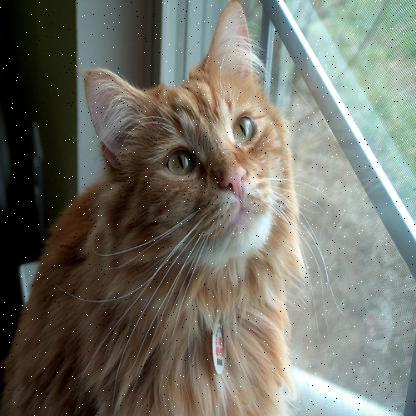cat: (28, 10, 308, 415)
